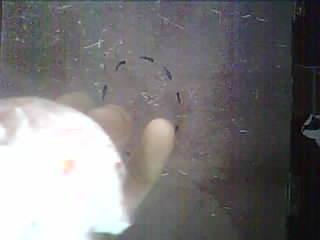paper: (0, 99, 128, 239)
